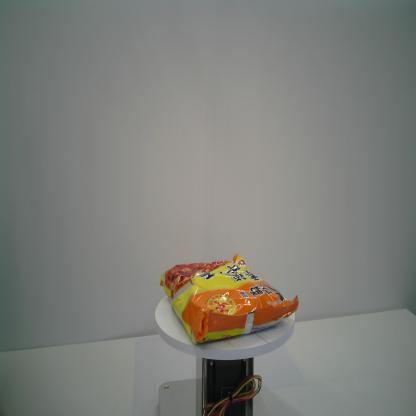Instant Noodles: (159, 253, 299, 345)
